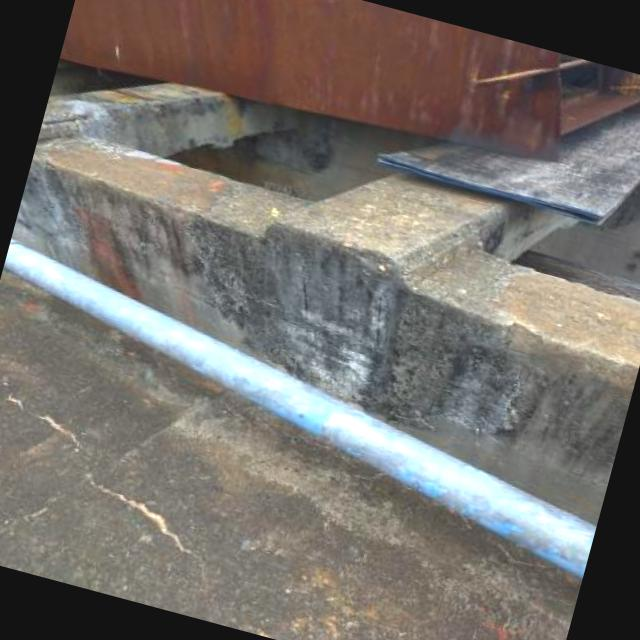gas: (3, 239, 596, 576)
